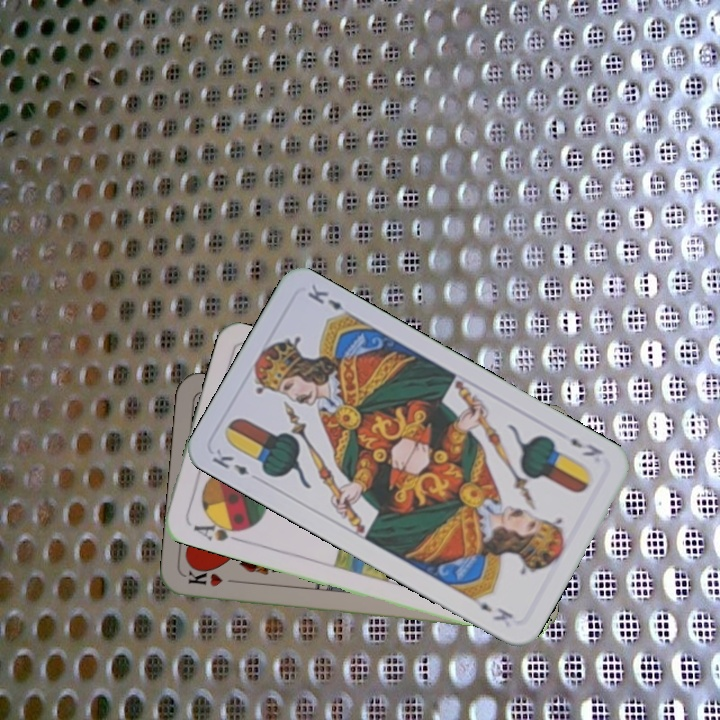EK: (208, 444, 252, 478), (566, 433, 606, 459)
HK: (184, 566, 243, 589)
SA: (189, 514, 247, 545)
